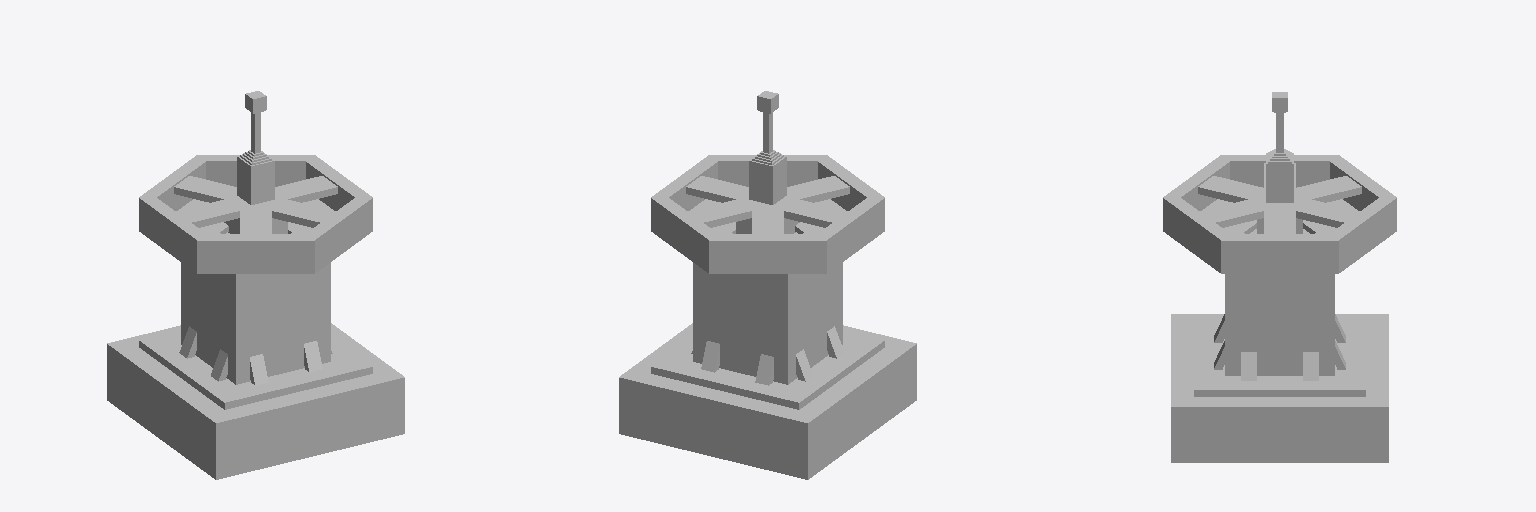
The model's file is anchor.obj.
3 renders of one model, left to right at view 1: azimuth 30°, elevation 25°; view 2: azimuth 150°, elevation 25°; view 3: azimuth 270°, elevation 25°, orthographic.
Parts seen in each view (by area): view 1: cube, frontleg, leftleg; view 2: cube, backleg, leftleg; view 3: cube, rightleg.
Boxes of the visible parts, box(x1,y1,x2,y2) form: cube: box(107, 91, 404, 479); frontleg: box(292, 390, 316, 458); leftleg: box(157, 376, 184, 441); cube: box(619, 91, 916, 479); backleg: box(707, 390, 731, 458); leftleg: box(839, 376, 866, 441); cube: box(1163, 92, 1396, 462); rightleg: box(1272, 397, 1287, 462).
Bounding box in the file's own units: 0.5104 × 0.8294 × 0.5472.